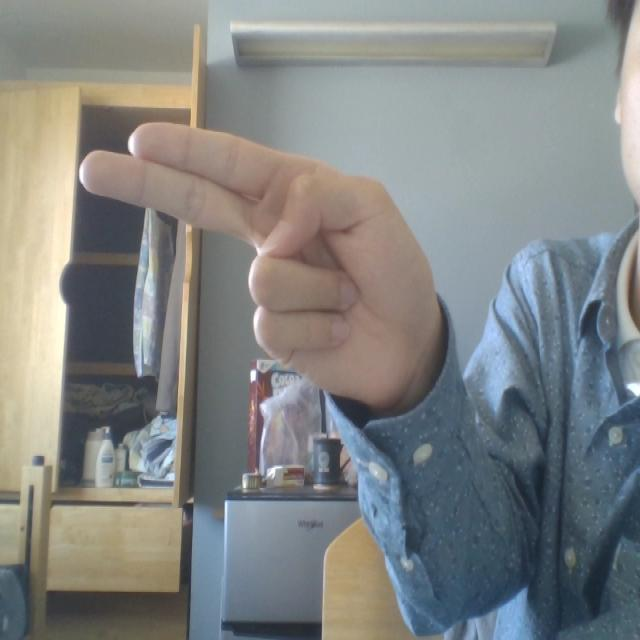H: (61, 56, 476, 473)
